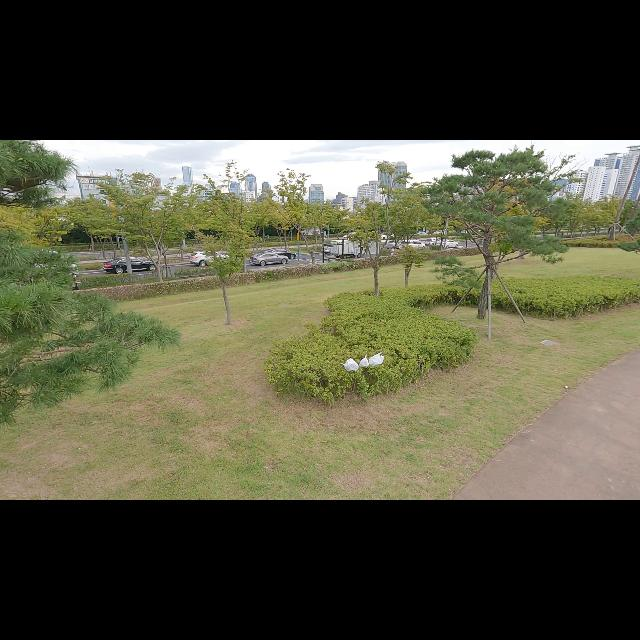trash: (342, 356, 360, 372), (370, 353, 386, 369), (358, 354, 369, 370)
